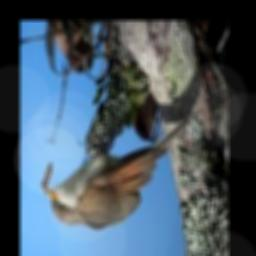Cuckoo: (44, 114, 192, 229)
